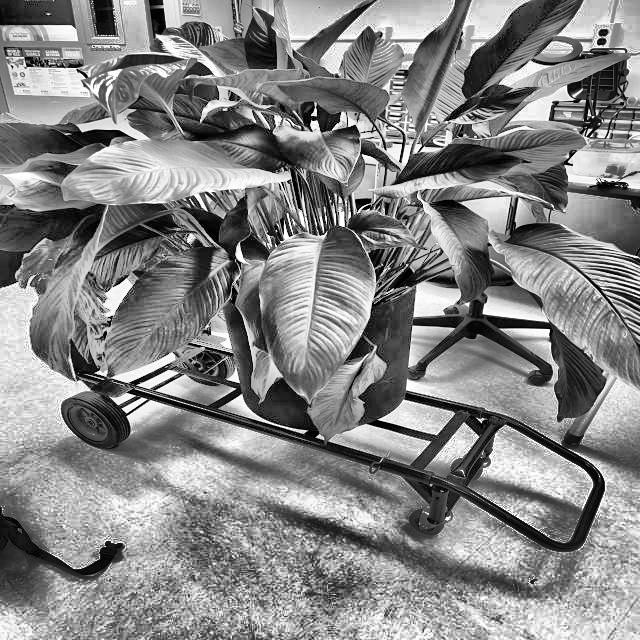plants: (18, 27, 640, 344)
